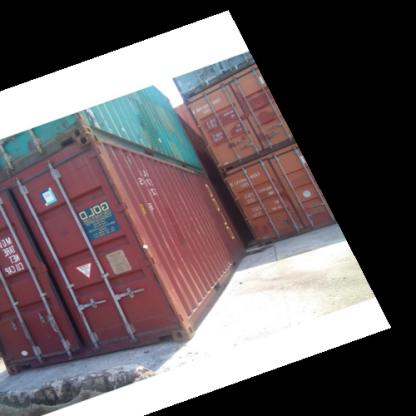Damage: (86, 129, 130, 199), (119, 198, 155, 266)
